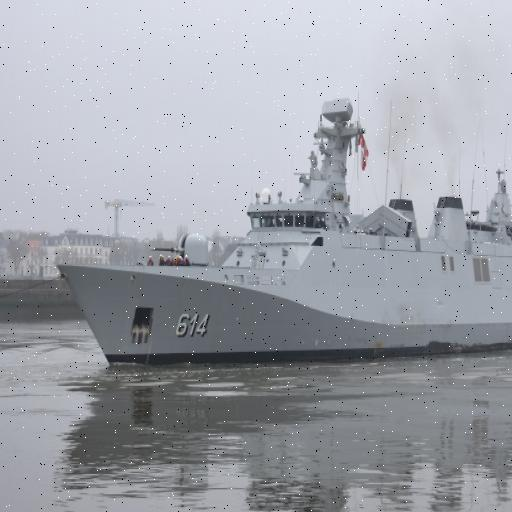Fragata: (55, 92, 512, 375)
